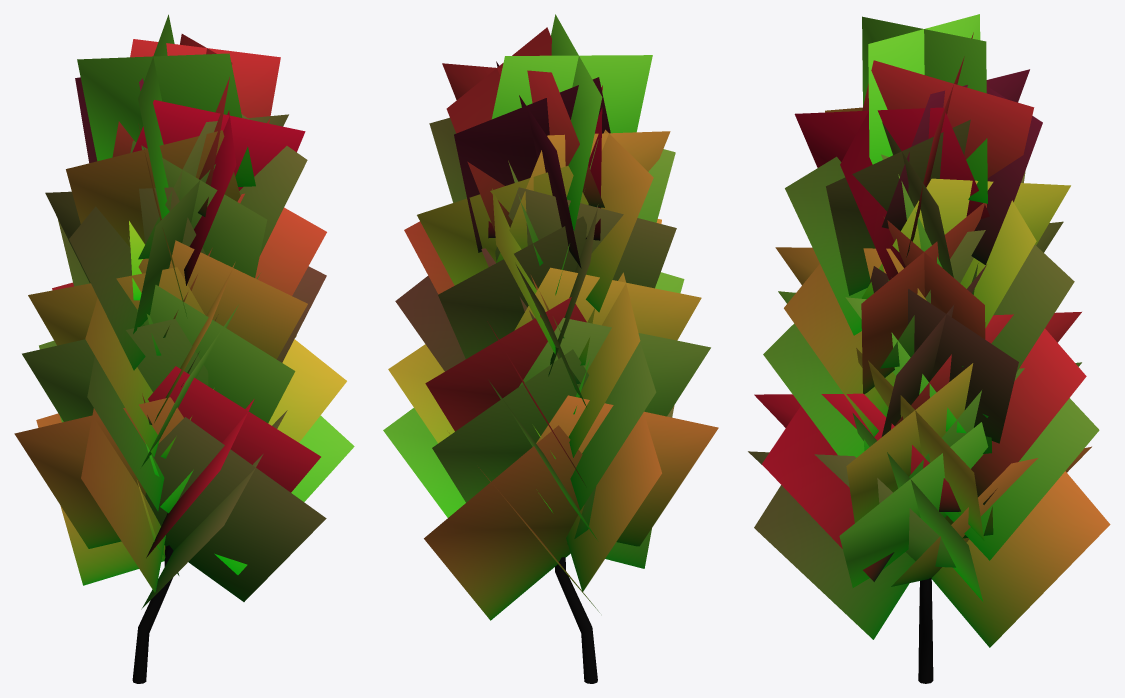
Rendered from Tree_7.fbx.
3 renders of one model, left to right at view 1: azimuth 30°, elevation 25°; view 2: azimuth 150°, elevation 25°; view 3: azimuth 270°, elevation 25°, orthographic. The views are drawn at different scales.
Parts seen in each view (by area): view 1: Tree_7; view 2: Tree_7; view 3: Tree_7.
Boxes of the visible parts, <box> form: Tree_7: <box>14,14,354,683</box>; Tree_7: <box>383,14,718,683</box>; Tree_7: <box>748,14,1110,683</box>.
Bounding box in the file's own units: 632 × 1335 × 656.
